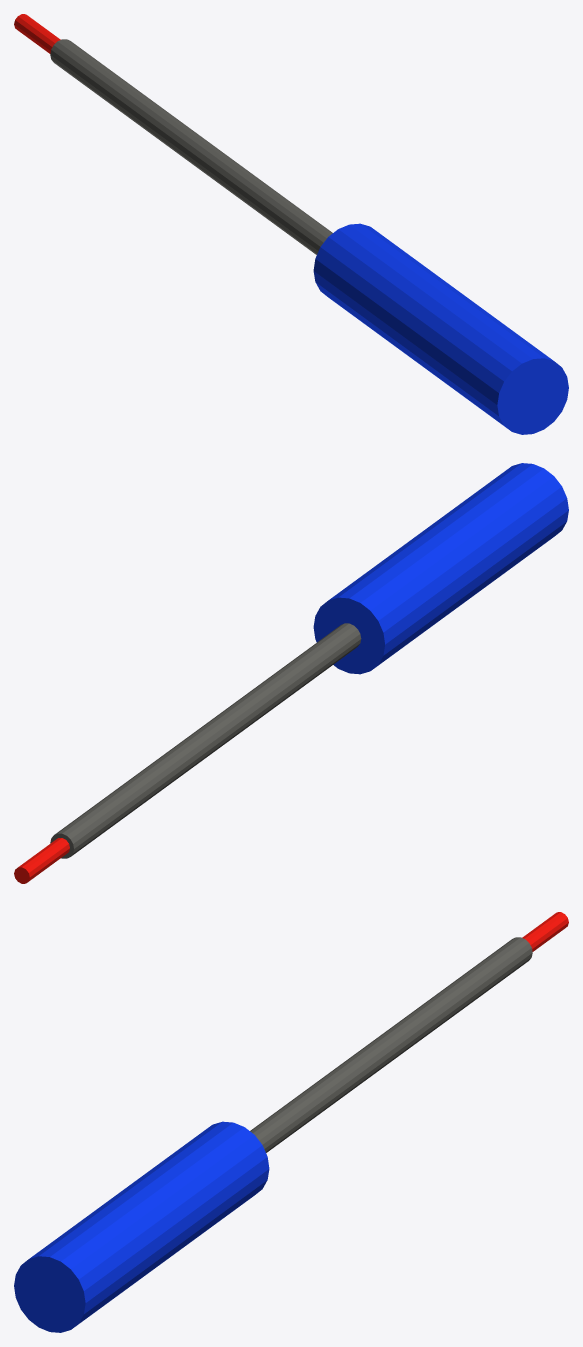
Rendered from screwdriver_affordance.obj.
The picture shows the model from 3 angles, top to bottom: view 1: azimuth 30°, elevation 25°; view 2: azimuth 150°, elevation 25°; view 3: azimuth 330°, elevation 25°; orthographic projection.
Parts seen in each view (by area): view 1: handle_affordance, shaft, red_tip; view 2: handle_affordance, shaft, red_tip; view 3: handle_affordance, shaft, red_tip.
Boxes of the visible parts, <box> form: handle_affordance: <box>313,223,568,434</box>; shaft: <box>50,39,332,254</box>; red_tip: <box>14,14,60,53</box>; handle_affordance: <box>313,463,568,674</box>; shaft: <box>50,623,361,858</box>; red_tip: <box>14,838,69,883</box>; handle_affordance: <box>14,1121,269,1332</box>; shaft: <box>250,937,532,1152</box>; red_tip: <box>522,912,568,951</box>.
Bounding box in the file's own units: 0.036 × 0.036 × 0.445.
